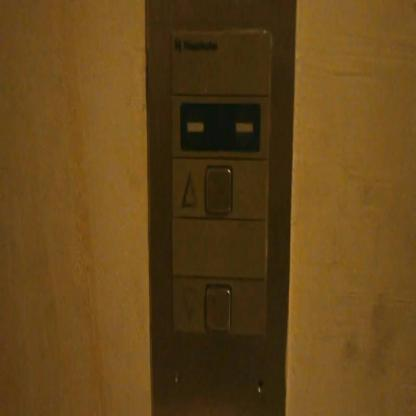down: (170, 271, 268, 341)
up: (170, 154, 270, 221)
